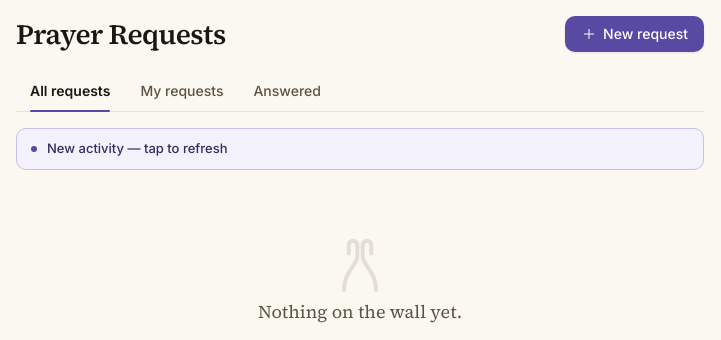
FeedPage › shows NewActivityBanner when remote snapshotId differs, and refreshes on click
Note: click → refresh
Click the button "New activity — tap to refresh". click: (137,148)
box: [16,128,704,170]
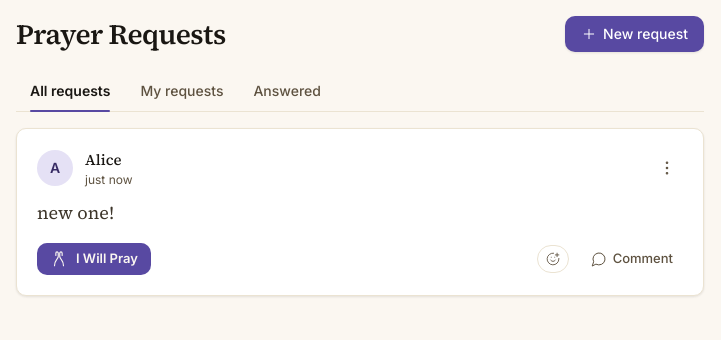
Expected: the text "new one!" is shown, [37,200,114,224]
